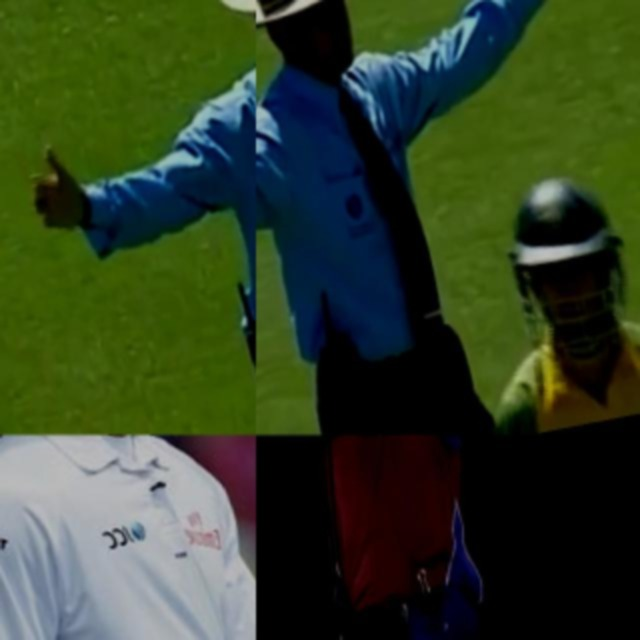No_Action: (0, 435, 256, 640)
No_Ball: (0, 0, 256, 435)
Six: (256, 435, 534, 640)
Wide: (256, 0, 640, 283)
